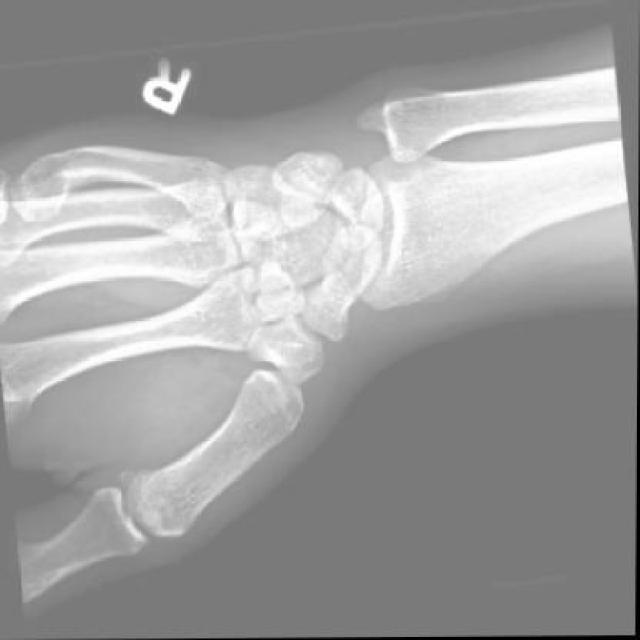Fracture: (311, 243, 362, 319)
